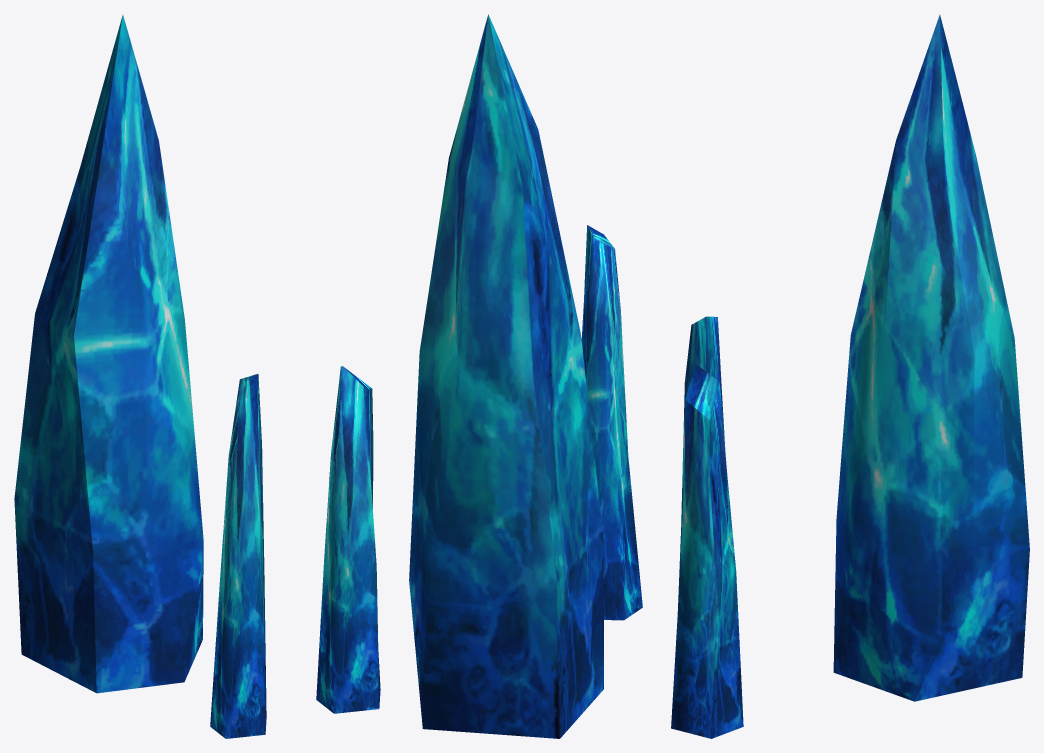
File: ice002.FBX
3 views of the same model, side by side, from view 1: azimuth 30°, elevation 25°; view 2: azimuth 150°, elevation 25°; view 3: azimuth 270°, elevation 25° (orthographic). The views are drawn at different scales.
Visible parts, largest first — view 1: ice piton 01, icicle02, icicle01; view 2: ice piton 01, icicle01; view 3: ice piton 01, icicle02, icicle01.
Boxes of the visible parts, x1=… form: ice piton 01: x1=14, y1=14, x2=203, y2=693; icicle02: x1=316, y1=366, x2=380, y2=713; icicle01: x1=210, y1=374, x2=266, y2=738; ice piton 01: x1=409, y1=14, x2=603, y2=738; icicle01: x1=581, y1=225, x2=642, y2=620; ice piton 01: x1=833, y1=14, x2=1029, y2=701; icicle02: x1=671, y1=363, x2=743, y2=738; icicle01: x1=677, y1=316, x2=725, y2=611.
Size of the model in its own units: 35.32 by 45.69 by 91.93.
Materials: 1 (1 with a texture image).
